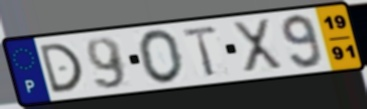9: (278, 12, 326, 71), (86, 36, 129, 91)
D: (37, 41, 86, 96)
O: (137, 28, 186, 85)
T: (181, 24, 220, 79)
X: (229, 16, 286, 74)
